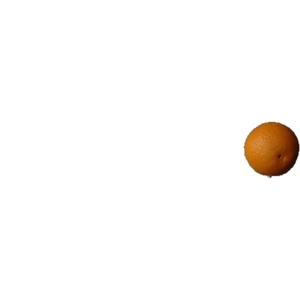laranja: (244, 119, 299, 183)
